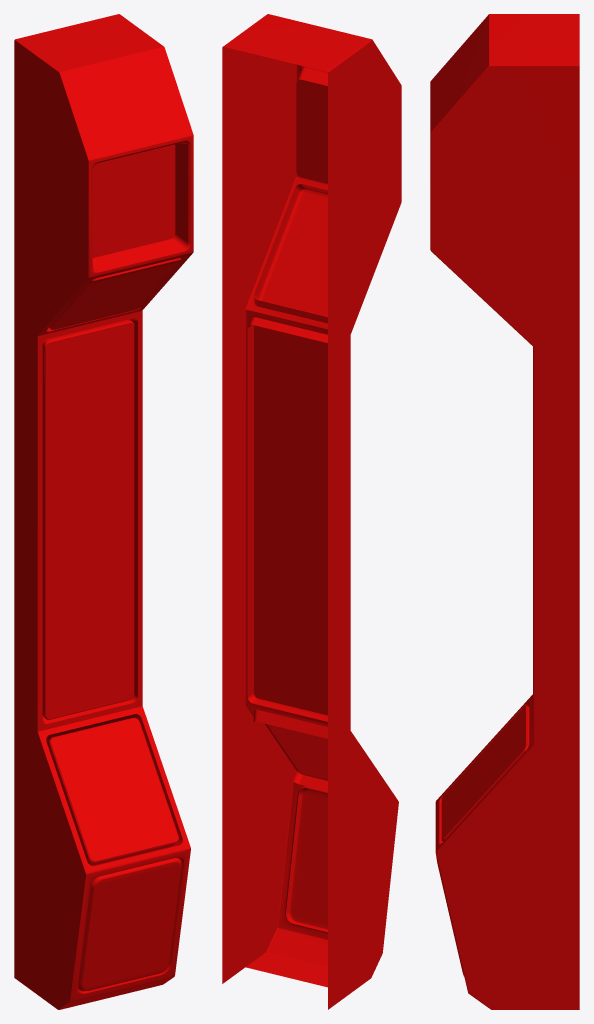
Rendered from Wall_6.fbx.
3 views of the same model, side by side, from view 1: azimuth 30°, elevation 25°; view 2: azimuth 150°, elevation 25°; view 3: azimuth 270°, elevation 25° (orthographic).
Parts seen in each view (by area): view 1: L16:pCube2; view 2: L16:pCube2; view 3: L16:pCube2.
Boxes of the visible parts, <box> form: L16:pCube2: <box>14,14,193,1009</box>; L16:pCube2: <box>222,14,401,1009</box>; L16:pCube2: <box>430,14,579,1009</box>.
Bounding box in the file's own units: 89.75 × 761 × 109.
